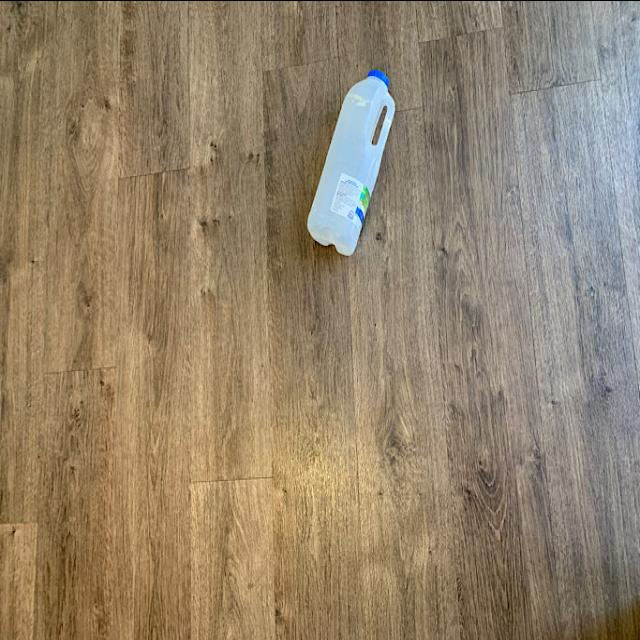HDPEM: (302, 66, 398, 262)
